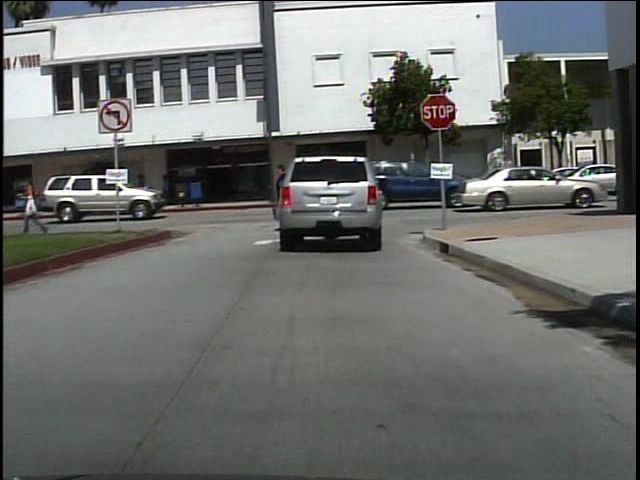person: (16, 172, 53, 240), (268, 159, 298, 238), (132, 172, 156, 210), (168, 173, 169, 205)
